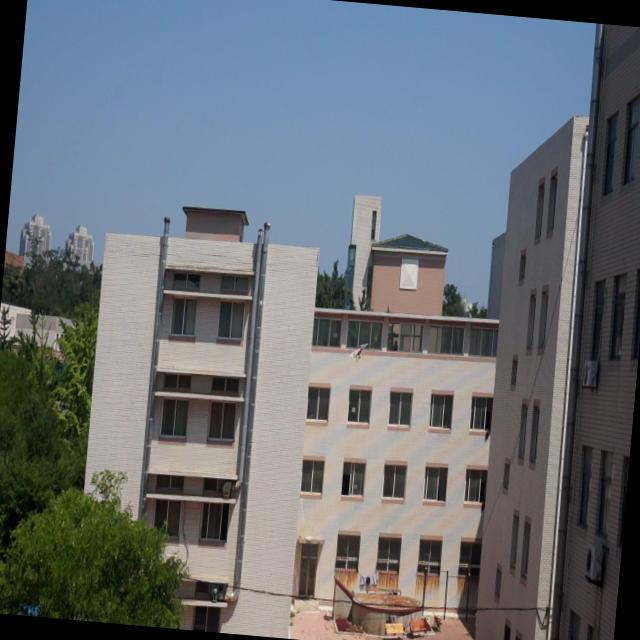drone: (346, 336, 369, 366)
